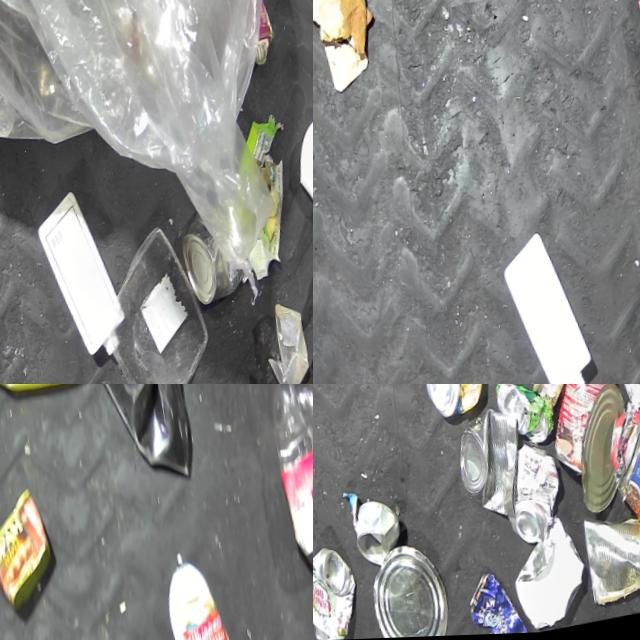can: (156, 542, 262, 640), (455, 405, 538, 530), (369, 537, 464, 640), (571, 384, 640, 518), (542, 384, 632, 483), (178, 206, 259, 310), (503, 440, 574, 550), (583, 509, 640, 611), (313, 542, 372, 640), (469, 565, 538, 637), (495, 384, 561, 453), (354, 497, 413, 573), (610, 424, 640, 565), (420, 384, 496, 423), (528, 384, 578, 413)
milk_jug: (30, 186, 143, 373), (496, 226, 606, 384)
non_white_jug: (63, 384, 203, 499), (0, 384, 96, 402)
